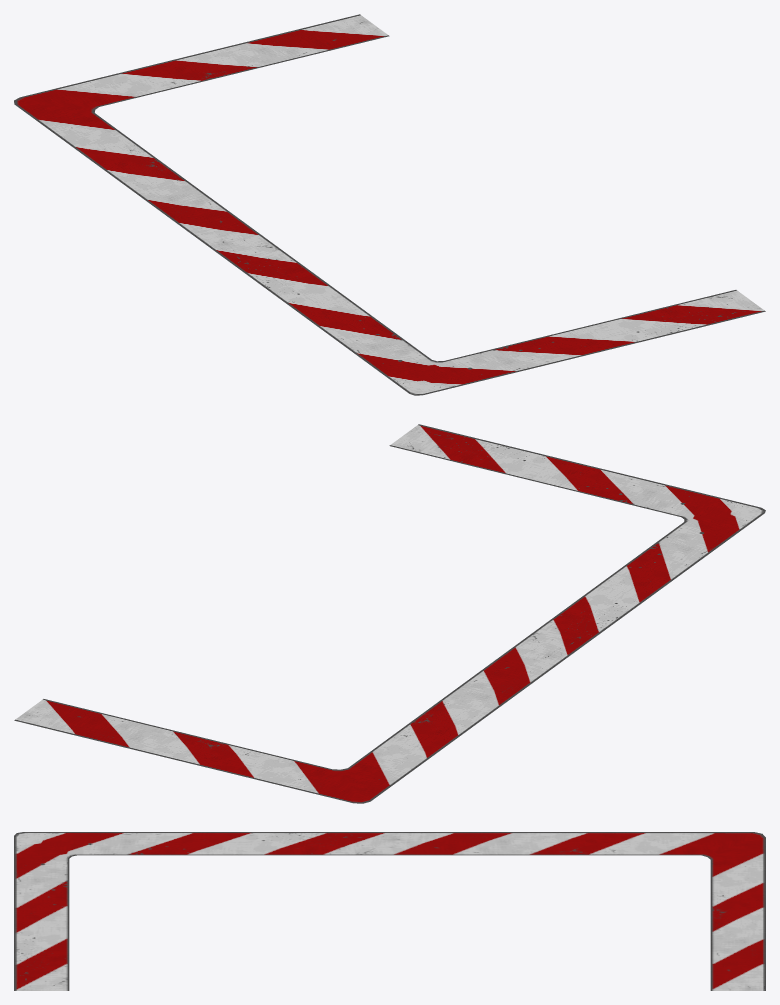
File: SM_FloorDecal_QuadRed2x1.FBX
3 views of the same model, one above another, from view 1: azimuth 30°, elevation 25°; view 2: azimuth 150°, elevation 25°; view 3: azimuth 270°, elevation 25° (orthographic). The views are drawn at different scales.
Parts seen in each view (by area): view 1: SM_FloorDecal_QuadRed2x1; view 2: SM_FloorDecal_QuadRed2x1; view 3: SM_FloorDecal_QuadRed2x1.
Boxes of the visible parts, x1,y1,x2,y2 form: SM_FloorDecal_QuadRed2x1: [14, 14, 765, 395]; SM_FloorDecal_QuadRed2x1: [14, 424, 765, 803]; SM_FloorDecal_QuadRed2x1: [14, 832, 765, 990].
Bounding box in the file's own units: 108 × 215 × 3.64e-12.
